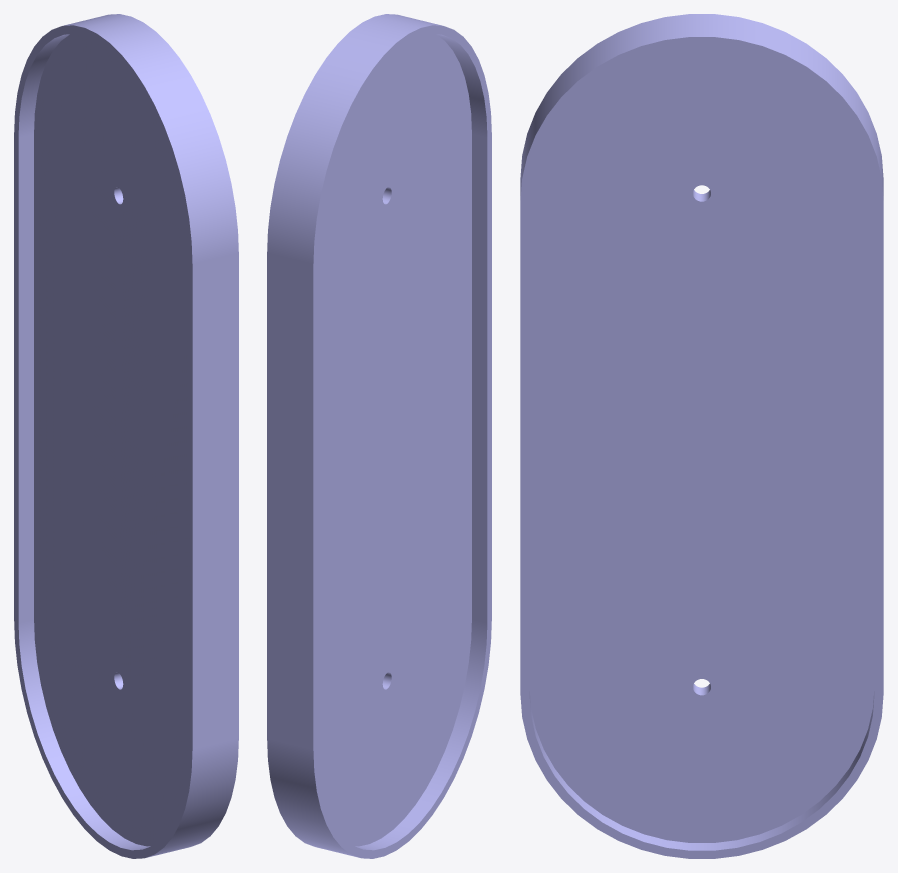
Rendered from ULMW-24-007-concept.obj.
3 renders of one model, left to right at view 1: azimuth 30°, elevation 25°; view 2: azimuth 150°, elevation 25°; view 3: azimuth 270°, elevation 25°, orthographic.
Visible parts, largest first — view 1: Root|ULMW-24-007-concept_(Default)|Default|Default_-_Part; view 2: Root|ULMW-24-007-concept_(Default)|Default|Default_-_Part; view 3: Root|ULMW-24-007-concept_(Default)|Default|Default_-_Part.
Boxes of the visible parts, x1,y1,x2,y2 form: Root|ULMW-24-007-concept_(Default)|Default|Default_-_Part: [14, 14, 238, 858]; Root|ULMW-24-007-concept_(Default)|Default|Default_-_Part: [267, 14, 491, 858]; Root|ULMW-24-007-concept_(Default)|Default|Default_-_Part: [520, 14, 883, 858].
Size of the model in its own units: 0.03 by 0.4995 by 0.2.
